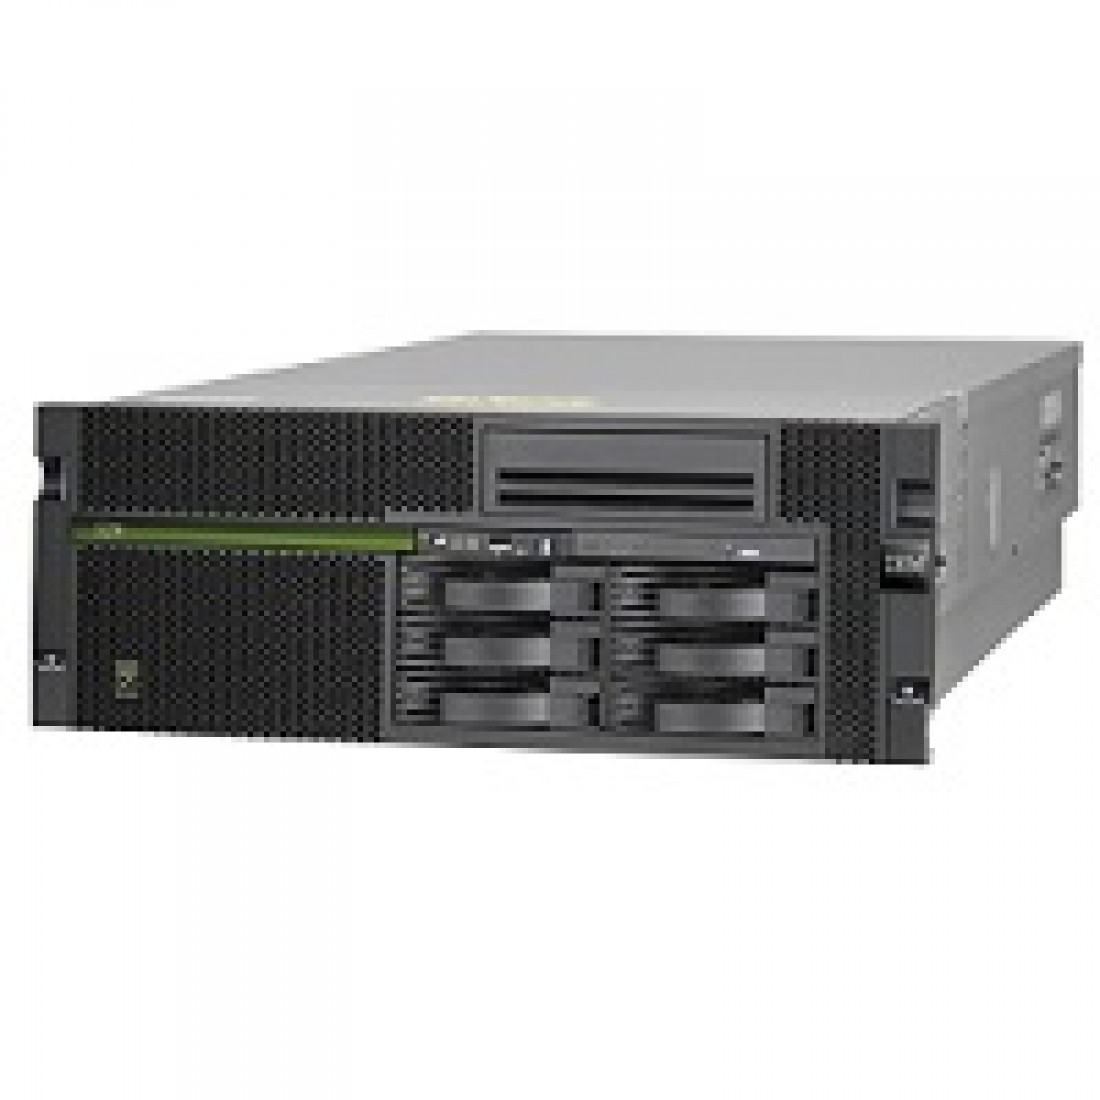ibm-server: (21, 320, 1087, 790)
